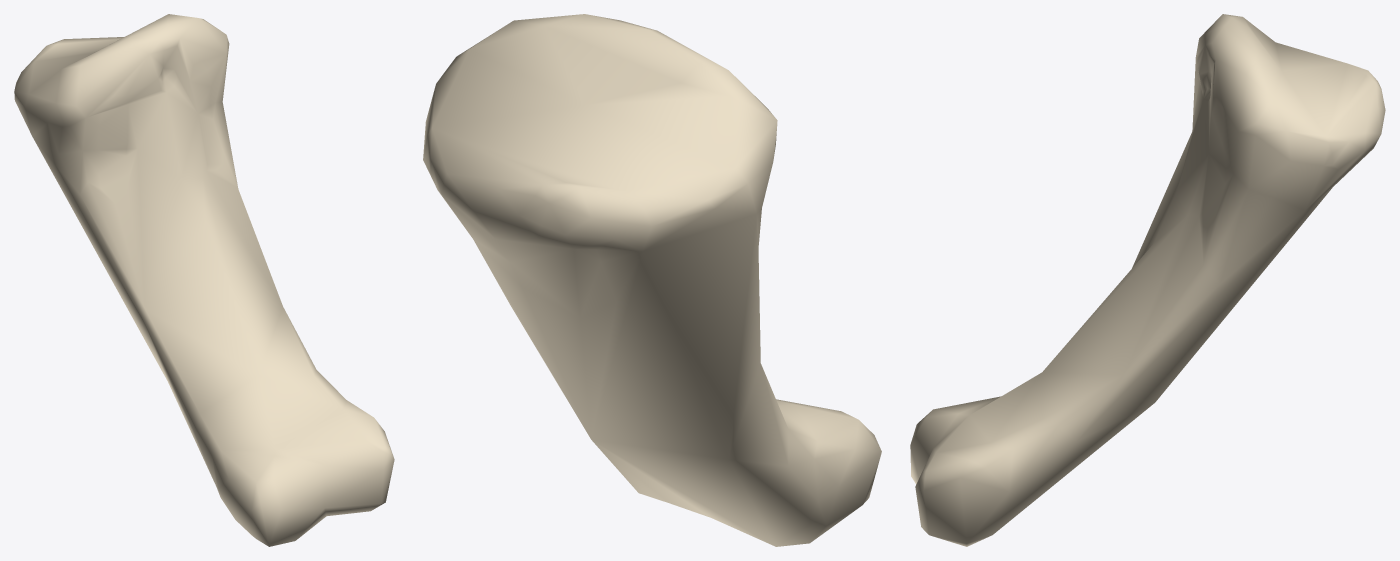
Rendered from middle-phalanx-of-third-finger-of-hand-l.glb.
3 views of the same model, side by side, from view 1: azimuth 30°, elevation 25°; view 2: azimuth 150°, elevation 25°; view 3: azimuth 270°, elevation 25° (orthographic). The views are drawn at different scales.
Visible parts, largest first — view 1: Middle phalanx of third finger of hand.l; view 2: Middle phalanx of third finger of hand.l; view 3: Middle phalanx of third finger of hand.l.
Boxes of the visible parts, x1,y1,x2,y2 form: Middle phalanx of third finger of hand.l: [14, 14, 394, 546]; Middle phalanx of third finger of hand.l: [423, 14, 881, 546]; Middle phalanx of third finger of hand.l: [910, 14, 1385, 546].
Size of the model in its own units: 0.0142 by 0.0263 by 0.0238.
